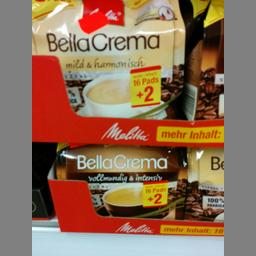coffee: (32, 0, 185, 117), (55, 142, 183, 217)
